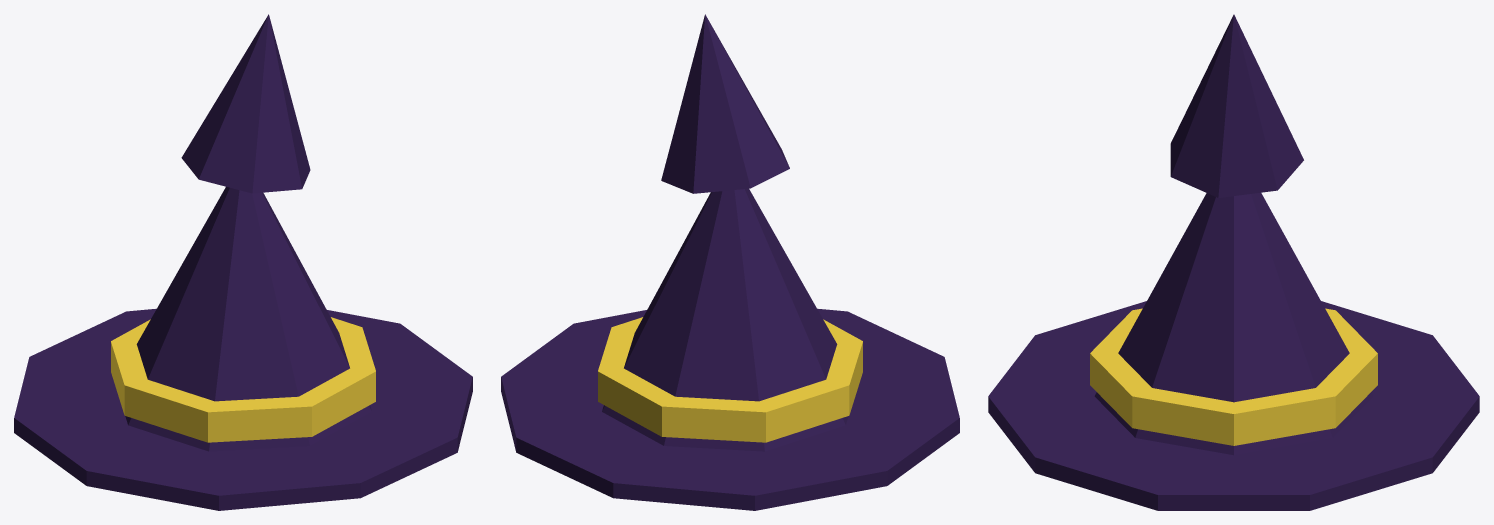
File: witch_hat.glb
3 renders of one model, left to right at view 1: azimuth 30°, elevation 25°; view 2: azimuth 150°, elevation 25°; view 3: azimuth 270°, elevation 25°, orthographic. The views are drawn at different scales.
Parts seen in each view (by area): view 1: witch_hat; view 2: witch_hat; view 3: witch_hat.
Part boxes in pixels (bbox=[...]): witch_hat: bbox=[14, 14, 472, 510]; witch_hat: bbox=[501, 14, 959, 510]; witch_hat: bbox=[988, 14, 1479, 510].
Bounding box in the file's own units: 1.33 × 1.29 × 1.4.
